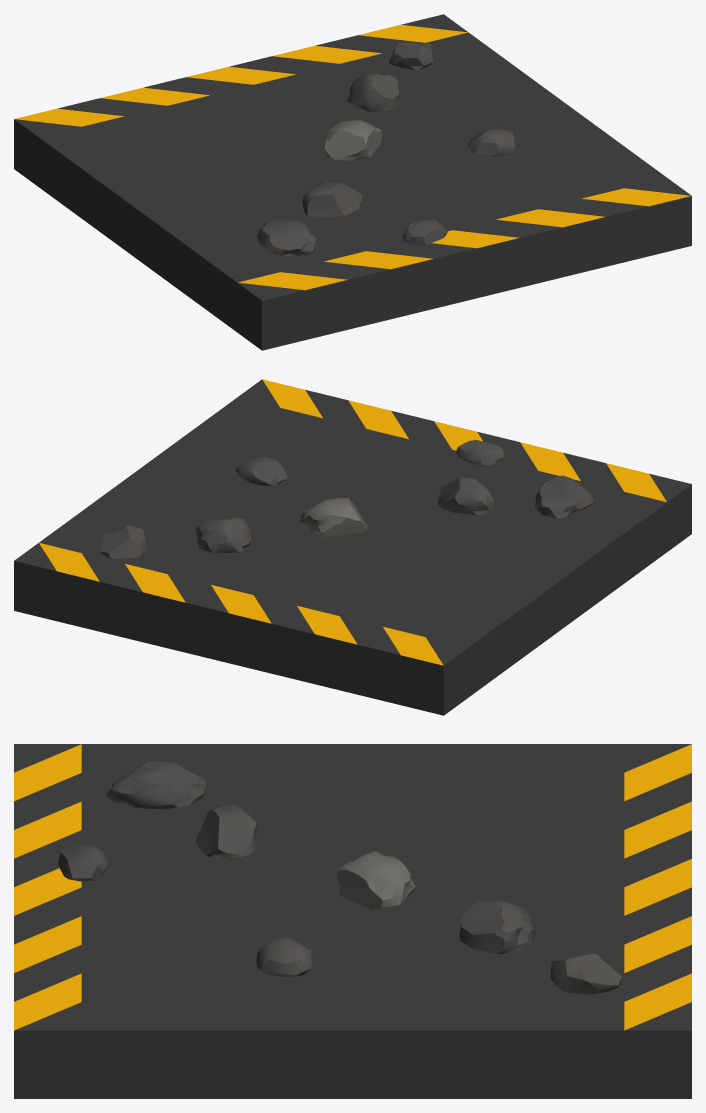
3 views of the same model, one above another, from view 1: azimuth 30°, elevation 25°; view 2: azimuth 150°, elevation 25°; view 3: azimuth 270°, elevation 25° (orthographic). The views are drawn at different scales.
Parts seen in each view (by area): view 1: rk1; view 2: rk1; view 3: rk1.
Part boxes in pixels (x1=…): rk1: x1=14, y1=14, x2=691, y2=350; rk1: x1=14, y1=379, x2=691, y2=715; rk1: x1=14, y1=744, x2=691, y2=1098.
Size of the model in its own units: 9 by 1.5 by 9.
